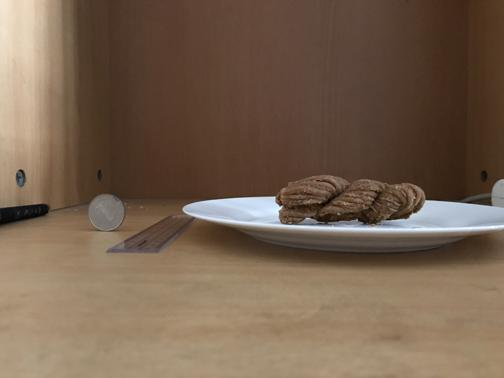coin: (87, 191, 125, 231)
fired_dough_twist: (276, 174, 426, 227)
